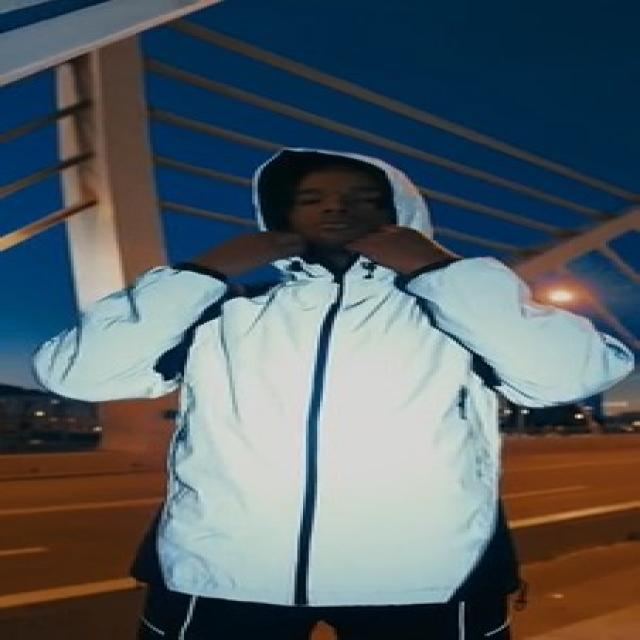Jacket_Wearer: (37, 235, 640, 603)
Person: (28, 148, 640, 636)
